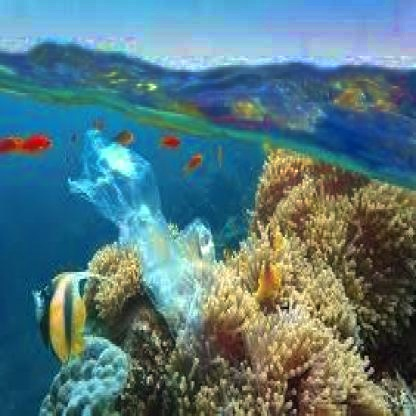pbag: (58, 121, 221, 344)
